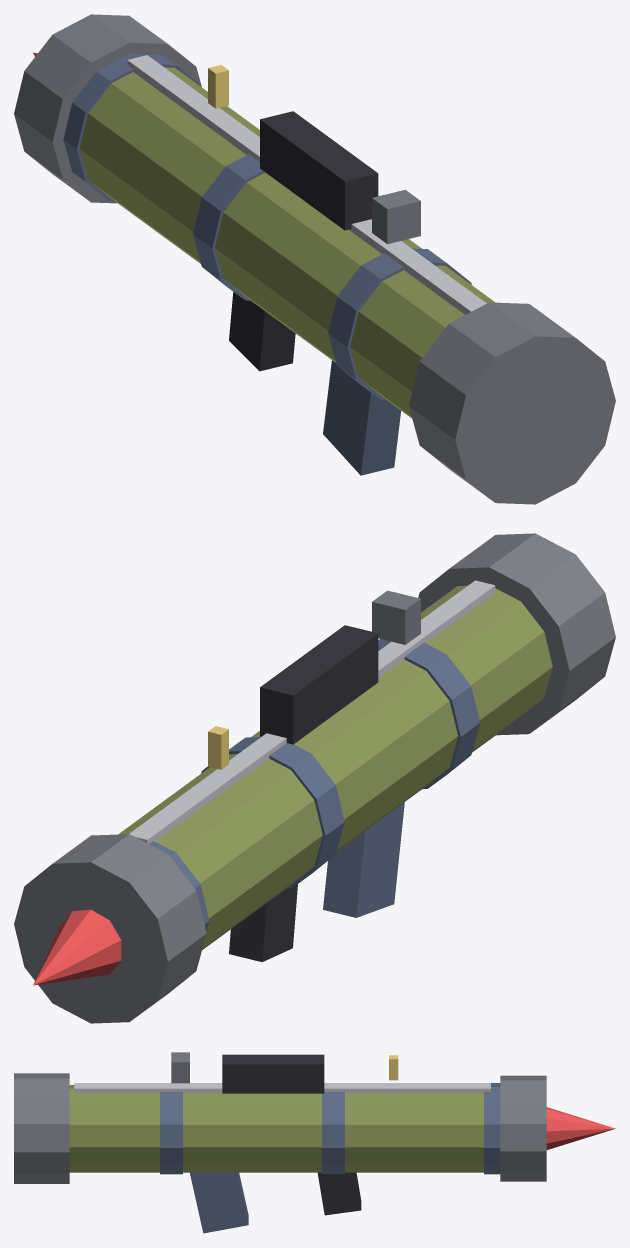
File: rocket_launcher.glb
3 renders of one model, top to bottom at view 1: azimuth 30°, elevation 25°; view 2: azimuth 150°, elevation 25°; view 3: azimuth 270°, elevation 25°, orthographic. The views are drawn at different scales.
Parts seen in each view (by area): view 1: RocketLauncher; view 2: RocketLauncher; view 3: RocketLauncher.
Boxes of the visible parts, <box> form: RocketLauncher: <box>14,14,615,504</box>; RocketLauncher: <box>14,533,615,1023</box>; RocketLauncher: <box>14,1052,615,1233</box>.
Bounding box in the file's own units: 0.24 × 0.4081 × 1.3.
